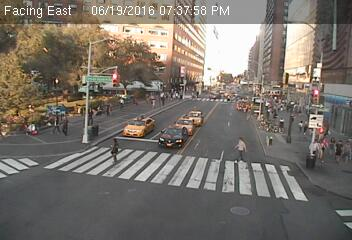neg: (179, 114, 203, 145), (141, 120, 161, 147), (184, 32, 200, 53), (164, 124, 177, 142), (241, 41, 253, 56), (195, 65, 205, 78), (210, 49, 220, 62), (181, 95, 188, 105)
pos: (105, 135, 126, 163), (233, 137, 253, 164), (58, 115, 76, 139)
